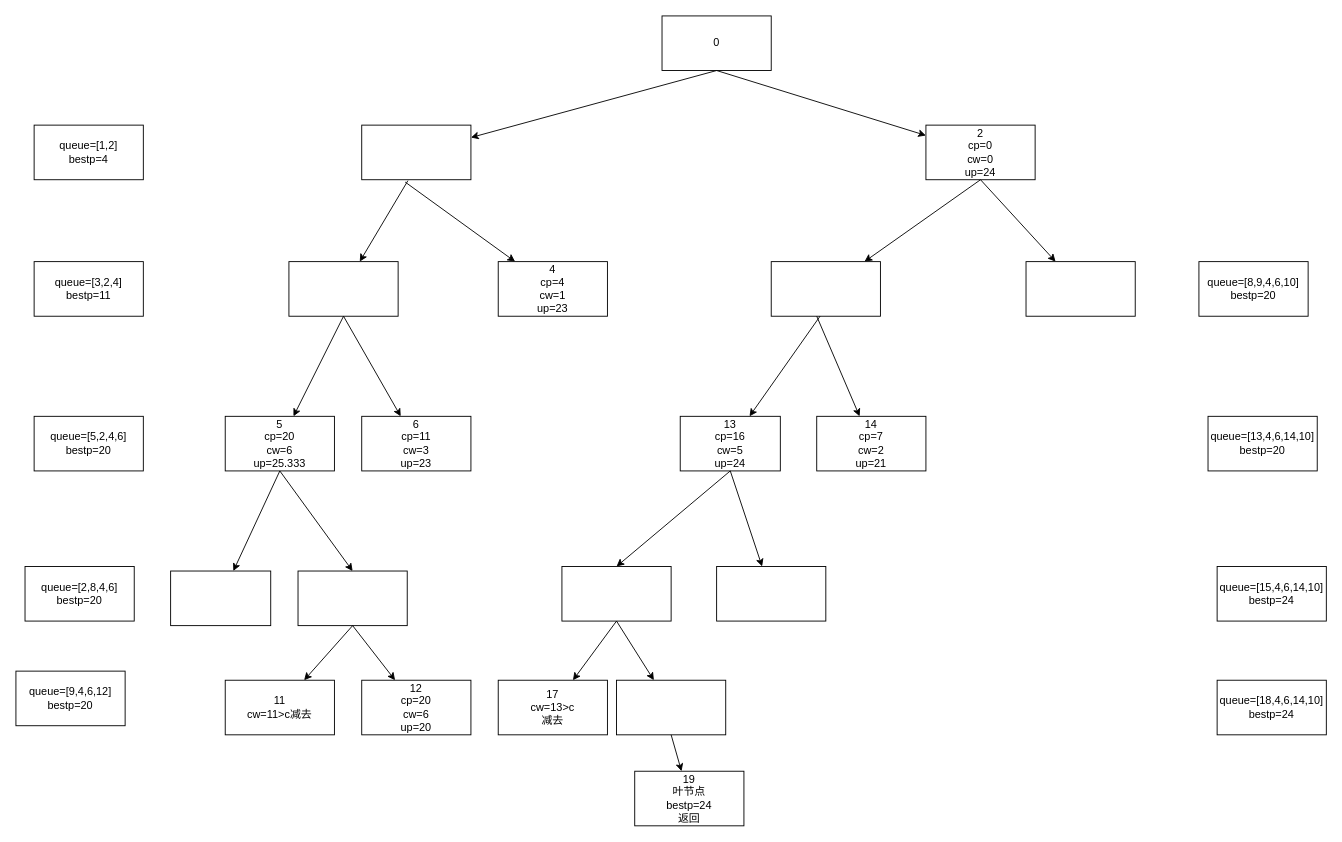
Some shapes in this 1342 by 842 pixel diagram are drawn without their labels. Each missing label, with the centre of its shape:
"1 cp=4 cw=1 up=25.333" belongs at (x=416, y=152).
"10 cp=0 cw=0 up=21" belongs at (x=1080, y=288).
"15 cp=24 cw=8 up=24" belongs at (x=616, y=593).
"16 up=22<bestp 减去" belongs at (x=771, y=593).
"18 cp=24 cw=8 up=24" belongs at (x=671, y=707).
"3 cp=11 cw=3 up=25.333" belongs at (x=343, y=288).
"7 cw=9>c 减去" belongs at (x=220, y=598).
"8 cp=20 cw=6 up=24" belongs at (x=352, y=598).
"9 cp=7 cw=2 up=24" belongs at (x=825, y=288).
